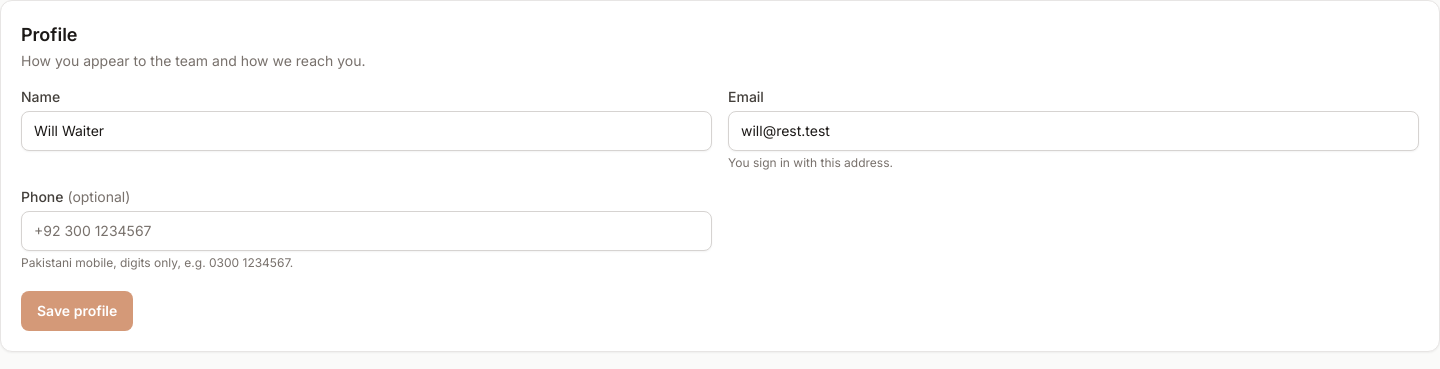
Test: AccountProfileForm › disables the form and shows a busy label while saving
Type "03005550101" into the field labelled "Phone (optional)" at (366,231), box [21,211,712,251]
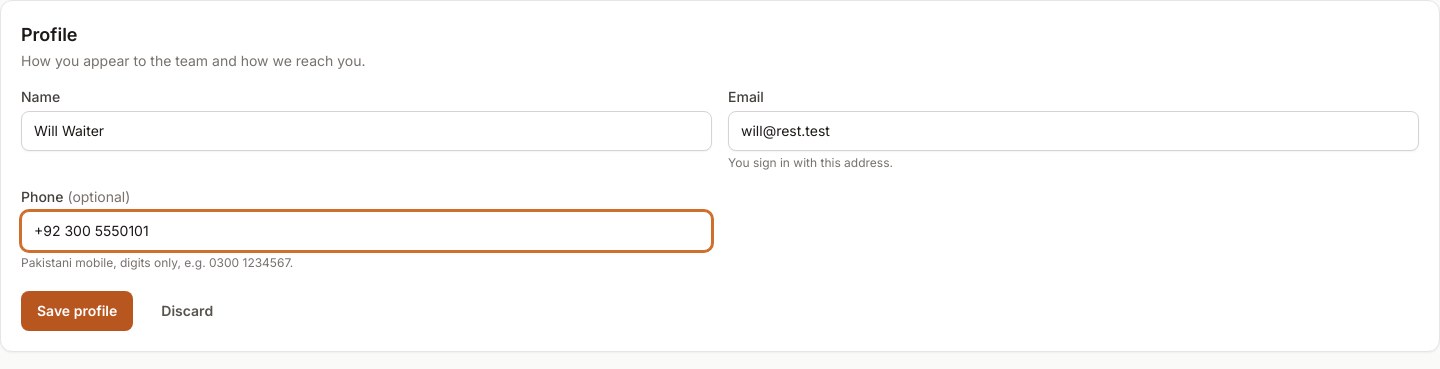
Click the button "Save profile" at (77,311), box [21,291,133,331]
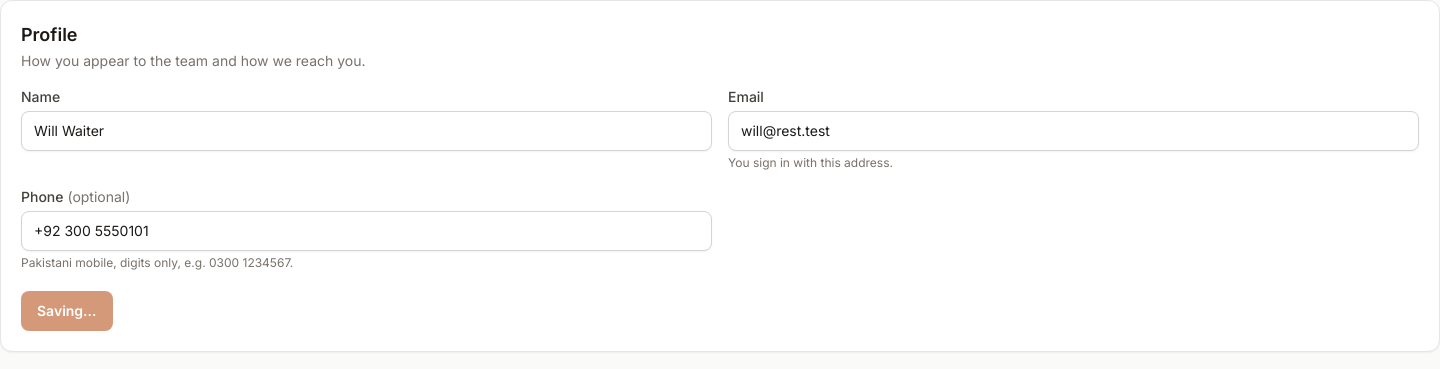
Expected: the field labelled "Name" is disabled, [21,111,712,151]
Now the button "Saving…" is disabled, box [21,291,112,331]
